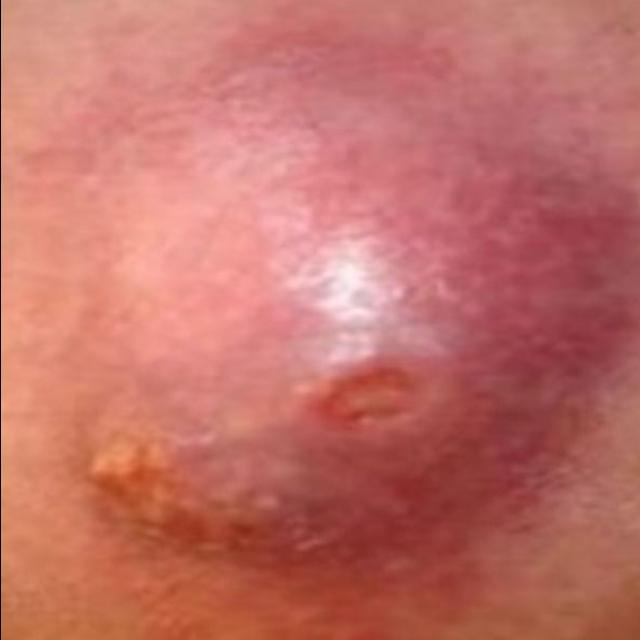nodule: (57, 17, 631, 601)
